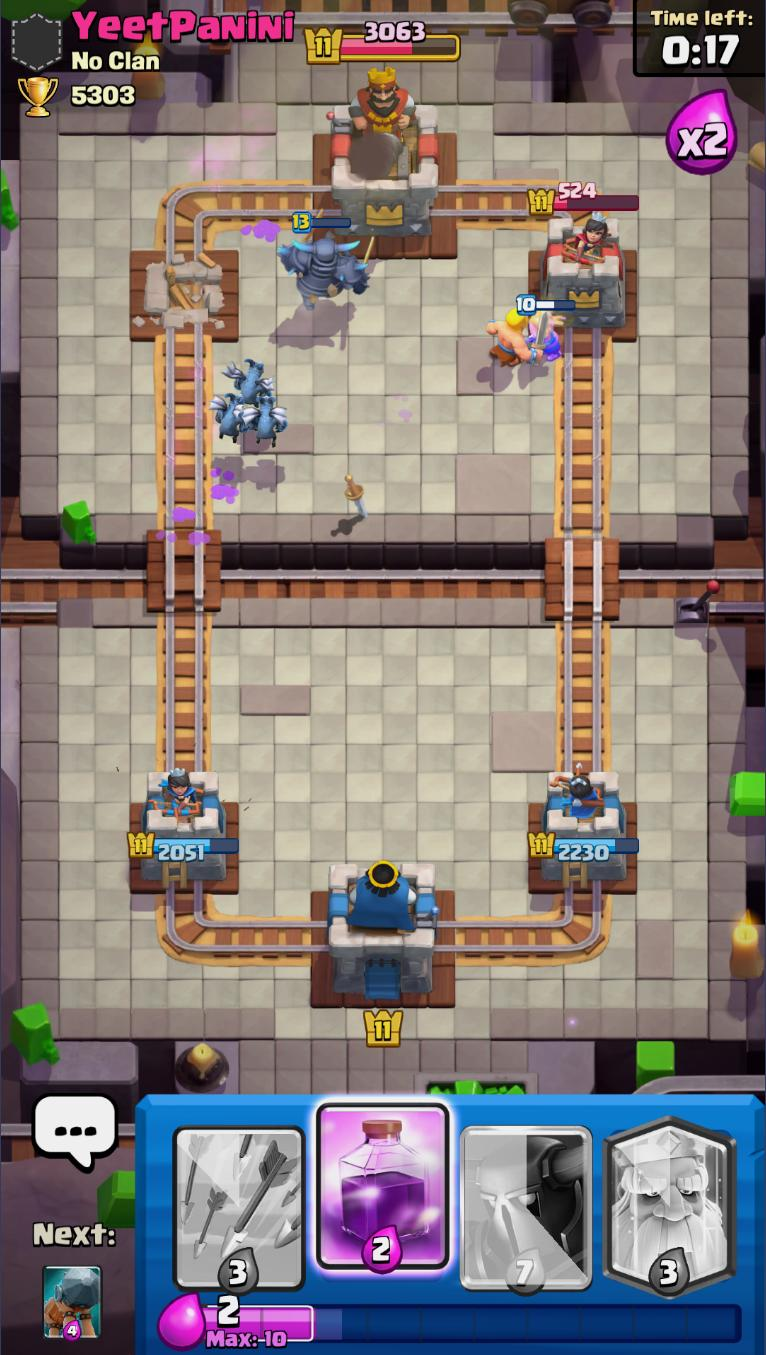ArrowDeck: (167, 1095, 310, 1296)
BattleRamNext: (41, 1264, 103, 1343)
Elixir: (203, 1295, 744, 1350)
EnemyTower: (533, 214, 631, 331)
EnemyTowerBrocken: (125, 252, 236, 350)
KingTower: (326, 80, 443, 243)
KingTowerHP: (304, 20, 461, 65)
MyBarbarian: (514, 296, 574, 359), (489, 304, 547, 369)
MyKingTower: (326, 858, 440, 1000)
MyMinion: (222, 356, 277, 403), (243, 393, 287, 446), (209, 392, 251, 443)
MyPekka: (278, 209, 376, 314)
MyPrincessTower: (126, 768, 240, 886), (528, 770, 640, 886)
MyPrincessTowerHP: (126, 830, 239, 862), (527, 832, 640, 862)
PekkaDeck: (456, 1094, 598, 1295)
PrincessTower: (562, 212, 617, 266)
RageDeck: (311, 1095, 455, 1296)
RoyaleGhostDeck: (598, 1094, 742, 1296)
TowerPrincessHP: (527, 182, 640, 216)
